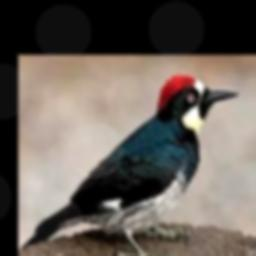Woodpecker: (21, 74, 240, 256)
